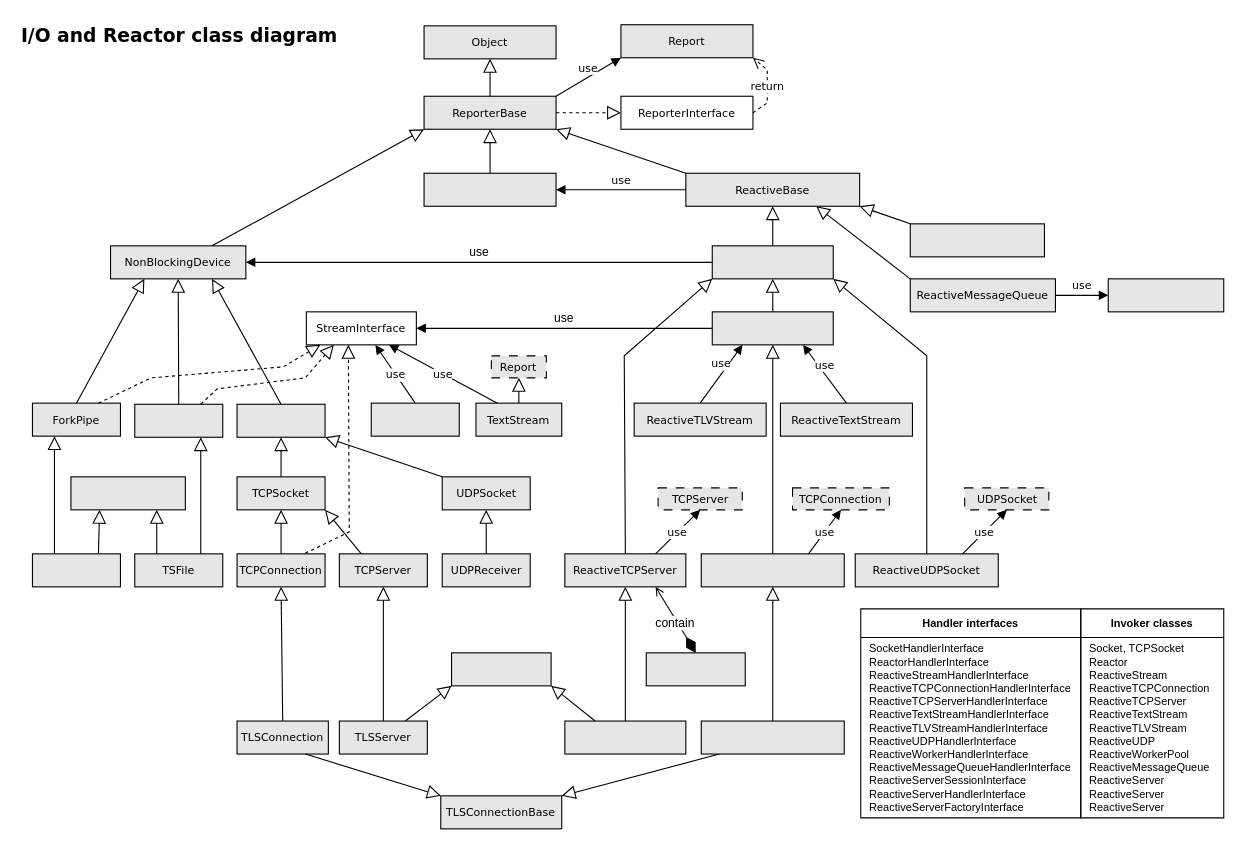
Image size: 1243x848. Some labels were removed from this diagram. Each missing label, with the centre of its shape:
BinaryFile: (x=178, y=420)
MessageQueue: (x=1165, y=295)
Reactive Server: (x=695, y=669)
ReactiveDevice: (x=772, y=262)
ReactiveStream: (x=772, y=328)
ReactiveTCPConnection: (x=772, y=570)
ReactiveTLSConnection: (x=772, y=737)
ReactiveTLSServer: (x=625, y=737)
ReactiveWorkerPool: (x=976, y=240)
Reactor: (x=489, y=189)
Socket: (x=280, y=420)
TLSServerBase: (x=500, y=669)
TLVStream: (x=414, y=419)
TSForkPipe: (x=75, y=570)
TSPacketStream: (x=127, y=493)
